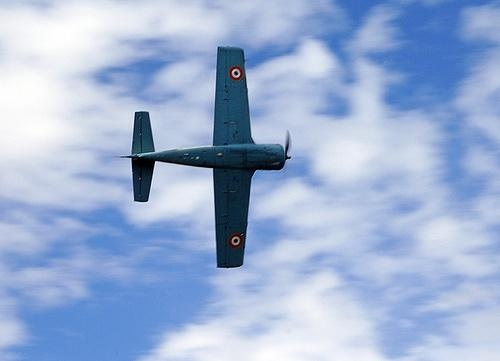aeroplane: (115, 45, 292, 270)
